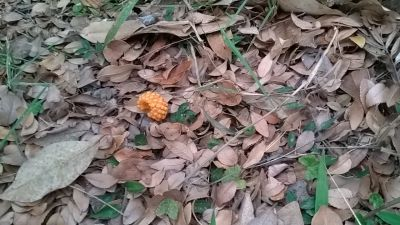eggs: (138, 91, 169, 120)
